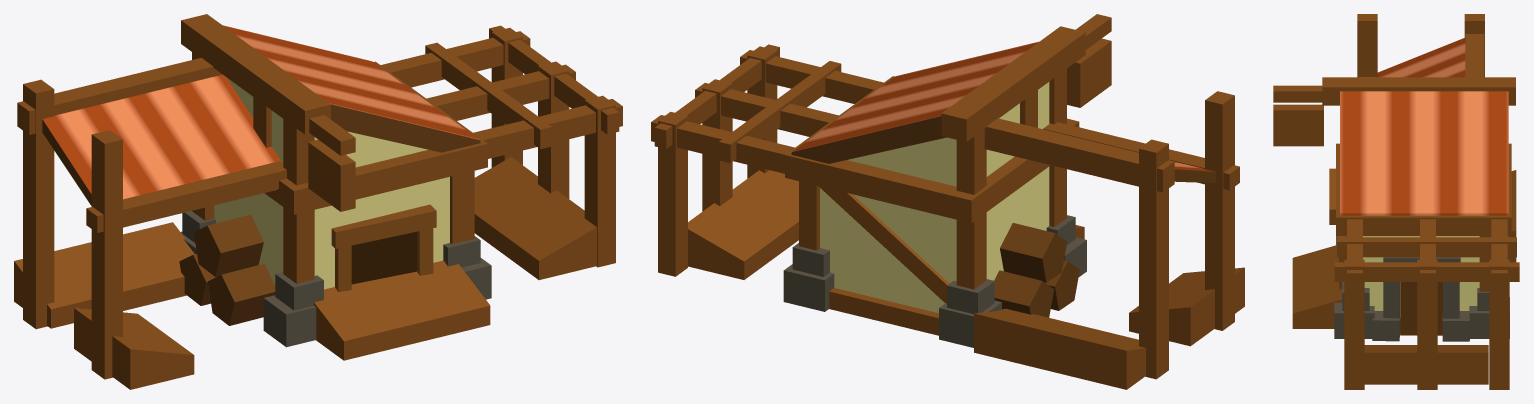
Rendered from fishmonger.fbx.
The picture shows the model from 3 angles, left to right: view 1: azimuth 30°, elevation 25°; view 2: azimuth 150°, elevation 25°; view 3: azimuth 270°, elevation 25°; orthographic projection. The views are drawn at different scales.
Visible parts, largest first — view 1: polySurface64; view 2: polySurface64; view 3: polySurface64.
Part boxes in pixels (box(x1,y1,x2,y2)): polySurface64: box(14, 14, 622, 389); polySurface64: box(651, 14, 1244, 389); polySurface64: box(1273, 14, 1519, 389).
Bounding box in the file's own units: 202 × 91.6 × 107.
Materials: 1 (1 with a texture image).
